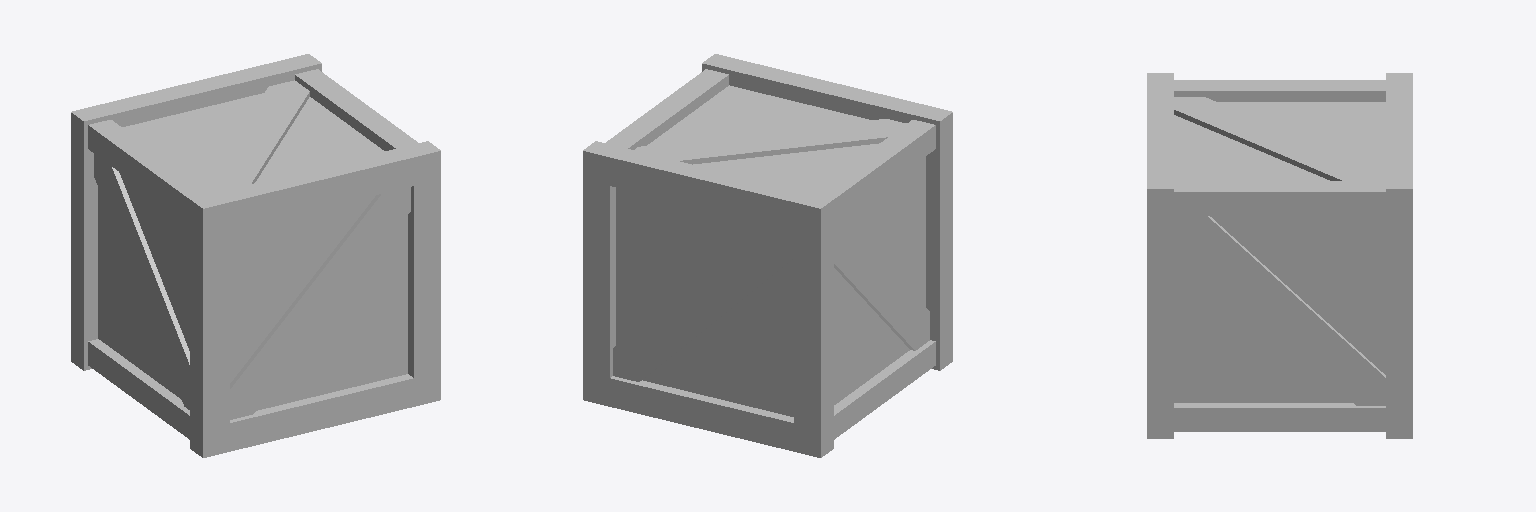
Rendered from crate.obj.
3 views of the same model, side by side, from view 1: azimuth 30°, elevation 25°; view 2: azimuth 150°, elevation 25°; view 3: azimuth 270°, elevation 25° (orthographic).
Visible parts, largest first — view 1: Cube.008; view 2: Cube.008; view 3: Cube.008.
Part boxes in pixels (bbox=[...]): Cube.008: bbox=[71, 54, 440, 457]; Cube.008: bbox=[583, 54, 952, 457]; Cube.008: bbox=[1147, 73, 1412, 438].
Bounding box in the file's own units: 0.341 × 0.341 × 0.3286.